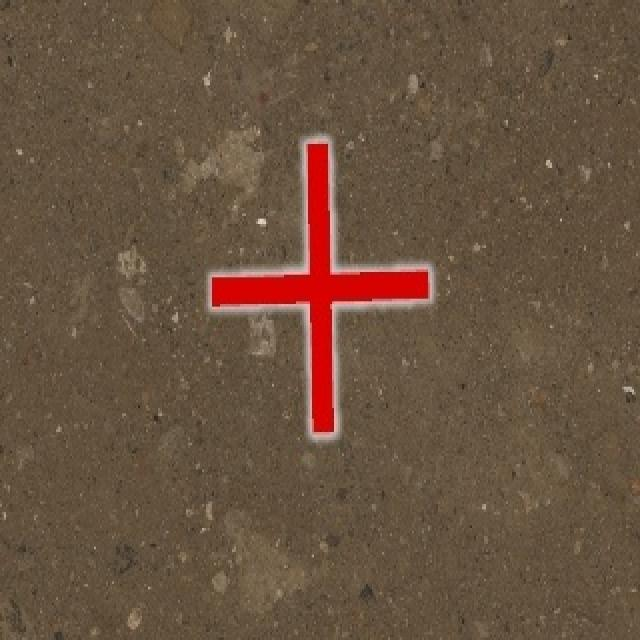x_marker: (211, 140, 429, 433)
